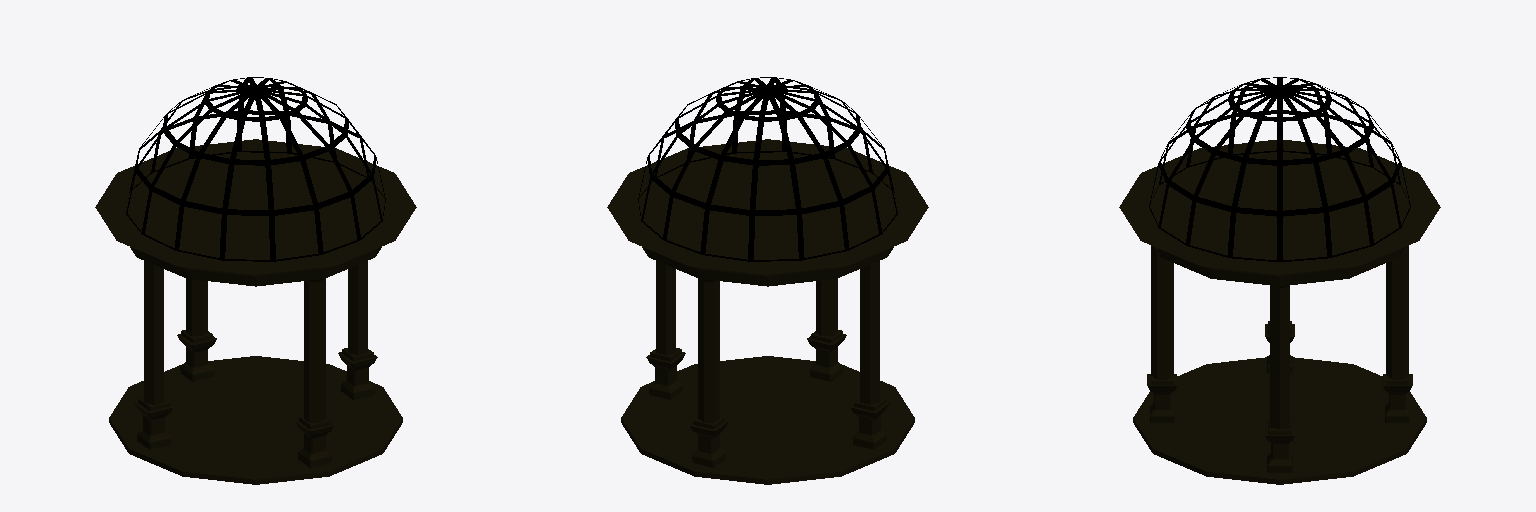
The model's file is Gazebo1.obj.
3 renders of one model, left to right at view 1: azimuth 30°, elevation 25°; view 2: azimuth 150°, elevation 25°; view 3: azimuth 270°, elevation 25°, orthographic.
Visible parts, largest first — view 1: Gazebo1_Cylinder.024; view 2: Gazebo1_Cylinder.024; view 3: Gazebo1_Cylinder.024.
Part boxes in pixels (x1,y1,x2,y2): Gazebo1_Cylinder.024: (95, 77, 416, 484); Gazebo1_Cylinder.024: (607, 77, 928, 484); Gazebo1_Cylinder.024: (1119, 77, 1440, 484).
Bounding box in the file's own units: 5.81 × 6.65 × 5.81.